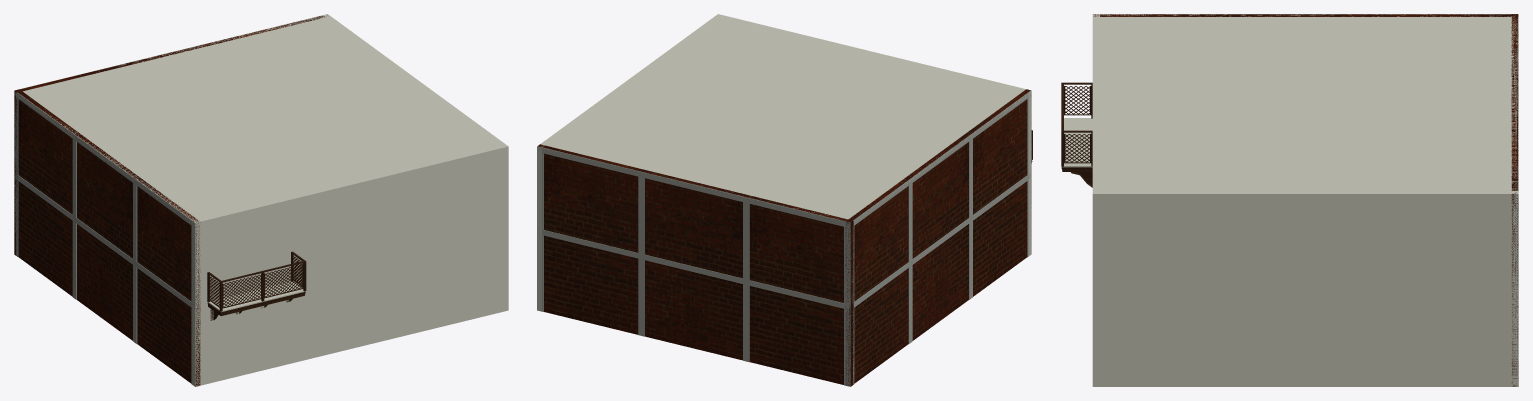
The model's file is building.glb.
The picture shows the model from 3 angles, left to right: view 1: azimuth 30°, elevation 25°; view 2: azimuth 150°, elevation 25°; view 3: azimuth 270°, elevation 25°; orthographic projection. The views are drawn at different scales.
Visible parts, largest first — view 1: roof/house:0/roof_slab#0001, house:0/edge0/z0/house:0/edge0/z0/wall_0_0, house:0/edge3/z0/house:0/edge3/z0/wall_0_0, house:0/edge2/z0/house:0/edge2/z0/wall_0_0, house:0/edge3/z0/house:0/edge3/z0/beam_0_0, house:0/edge3/z0/house:0/edge3/z0/beam_1_0, house:0/edge1/z0/house:0/edge1/z0/wall_0_0, balcony/sample/balcony_platform#0001, balcony/sample/balcony_fascia#0001; view 2: roof/house:0/roof_slab#0001, house:0/edge2/z0/house:0/edge2/z0/wall_0_0, house:0/edge3/z0/house:0/edge3/z0/wall_0_0, house:0/edge1/z0/house:0/edge1/z0/wall_0_0, house:0/edge2/z0/house:0/edge2/z0/beam_1_0, house:0/edge2/z0/house:0/edge2/z0/beam_0_0, house:0/edge0/z0/house:0/edge0/z0/wall_0_0, house:0/edge3/z0/house:0/edge3/z0/beam_0_0, house:0/edge3/z0/house:0/edge3/z0/beam_1_0, house:0/edge2/z0/house:0/edge2/z0/column_2_0, house:0/edge2/z0/house:0/edge2/z0/column_2_1, house:0/edge2/z0/house:0/edge2/z0/column_3_0 (+3 smaller); view 3: house:0/edge1/z0/house:0/edge1/z0/wall_0_0, roof/house:0/roof_slab#0001, house:0/edge0/z0/house:0/edge0/z0/wall_0_0, house:0/edge2/z0/house:0/edge2/z0/wall_0_0, house:0/edge3/z0/house:0/edge3/z0/wall_0_0, balcony/sample/balcony_platform#0001.
Part boxes in pixels (box(x1,y1,x2,y2)): roof/house:0/roof_slab#0001: box(15, 14, 506, 225); house:0/edge0/z0/house:0/edge0/z0/wall_0_0: box(192, 144, 508, 386); house:0/edge3/z0/house:0/edge3/z0/wall_0_0: box(17, 89, 200, 386); house:0/edge2/z0/house:0/edge2/z0/wall_0_0: box(14, 15, 327, 255); house:0/edge3/z0/house:0/edge3/z0/beam_0_0: box(14, 173, 195, 309); house:0/edge3/z0/house:0/edge3/z0/beam_1_0: box(14, 92, 195, 227); house:0/edge1/z0/house:0/edge1/z0/wall_0_0: box(323, 14, 508, 311); balcony/sample/balcony_platform#0001: box(208, 281, 304, 312); balcony/sample/balcony_fascia#0001: box(207, 291, 305, 315); roof/house:0/roof_slab#0001: box(540, 14, 1031, 223); house:0/edge2/z0/house:0/edge2/z0/wall_0_0: box(538, 144, 853, 386); house:0/edge3/z0/house:0/edge3/z0/wall_0_0: box(845, 89, 1030, 385); house:0/edge1/z0/house:0/edge1/z0/wall_0_0: box(537, 15, 722, 311); house:0/edge2/z0/house:0/edge2/z0/beam_1_0: box(538, 147, 850, 228); house:0/edge2/z0/house:0/edge2/z0/beam_0_0: box(542, 230, 850, 309); house:0/edge0/z0/house:0/edge0/z0/wall_0_0: box(717, 14, 1031, 256); house:0/edge3/z0/house:0/edge3/z0/beam_0_0: box(850, 172, 1031, 309); house:0/edge3/z0/house:0/edge3/z0/beam_1_0: box(850, 90, 1031, 227); house:0/edge2/z0/house:0/edge2/z0/column_2_0: box(638, 176, 644, 254); house:0/edge2/z0/house:0/edge2/z0/column_2_1: box(638, 258, 644, 336); house:0/edge2/z0/house:0/edge2/z0/column_3_0: box(743, 202, 749, 280); house:0/edge1/z0/house:0/edge1/z0/wall_0_0: box(1092, 191, 1518, 386); roof/house:0/roof_slab#0001: box(1092, 14, 1518, 198); house:0/edge0/z0/house:0/edge0/z0/wall_0_0: box(1092, 14, 1099, 386); house:0/edge2/z0/house:0/edge2/z0/wall_0_0: box(1511, 14, 1518, 386); house:0/edge3/z0/house:0/edge3/z0/wall_0_0: box(1093, 14, 1517, 16); balcony/sample/balcony_platform#0001: box(1063, 118, 1092, 167).
Size of the model in its own units: 12 by 6 by 12.89.
4 materials, 2 textured.
